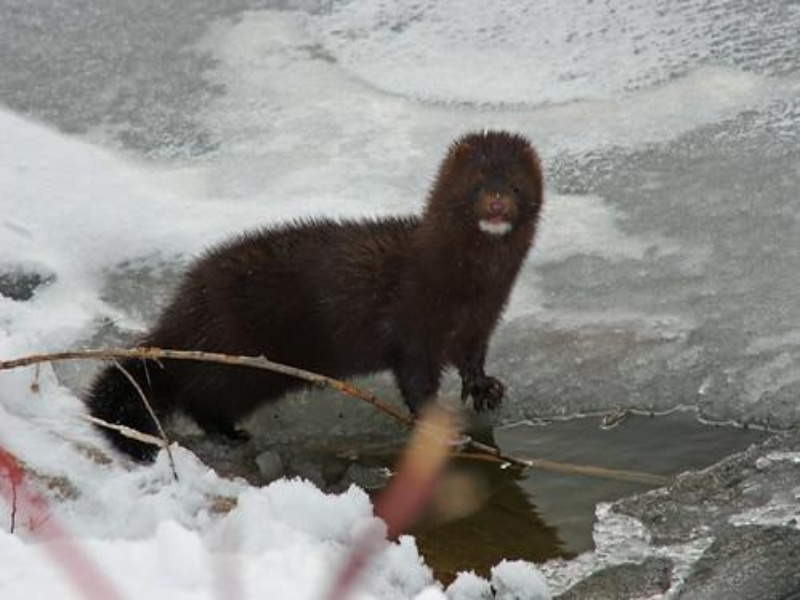minkish: (88, 125, 546, 470)
